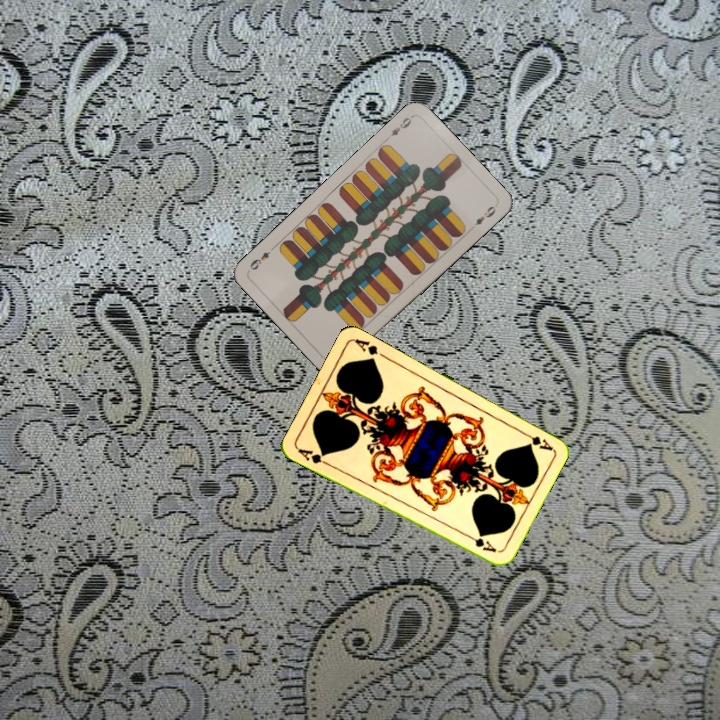E9: (382, 112, 415, 143)
GA: (517, 427, 555, 453), (294, 444, 332, 468)
